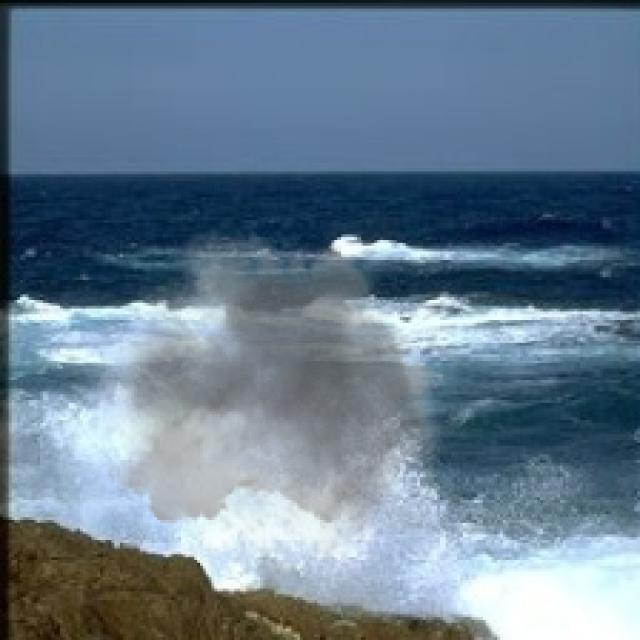Smoke: (94, 211, 457, 603)
